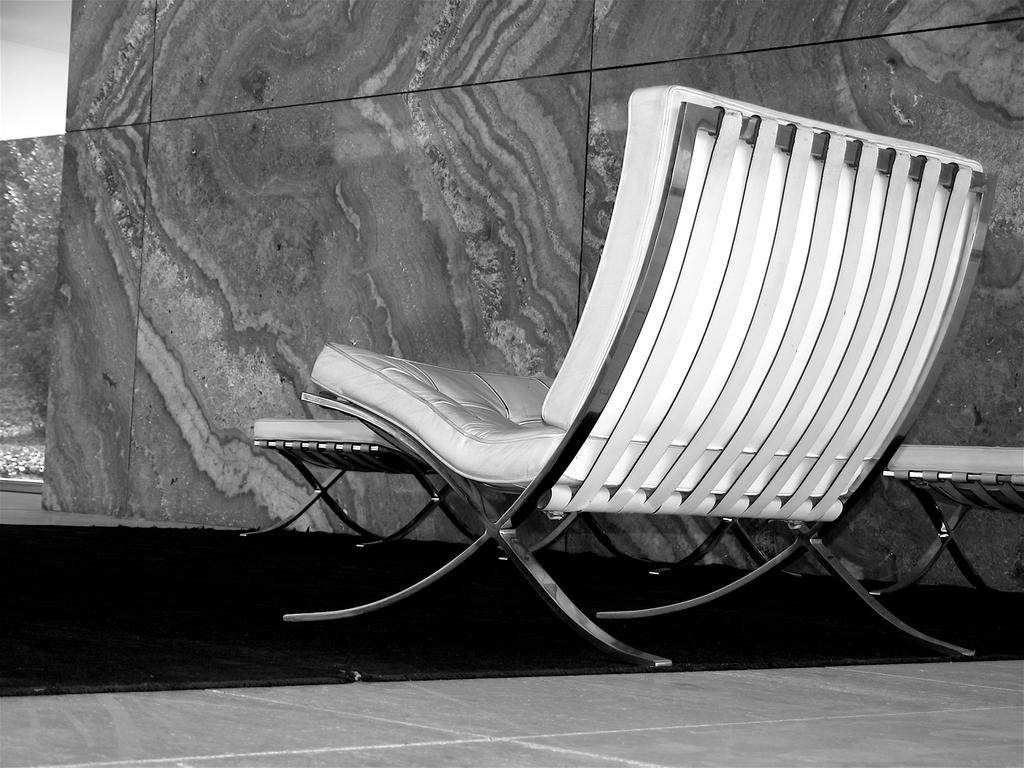Chair: (275, 81, 984, 660)
